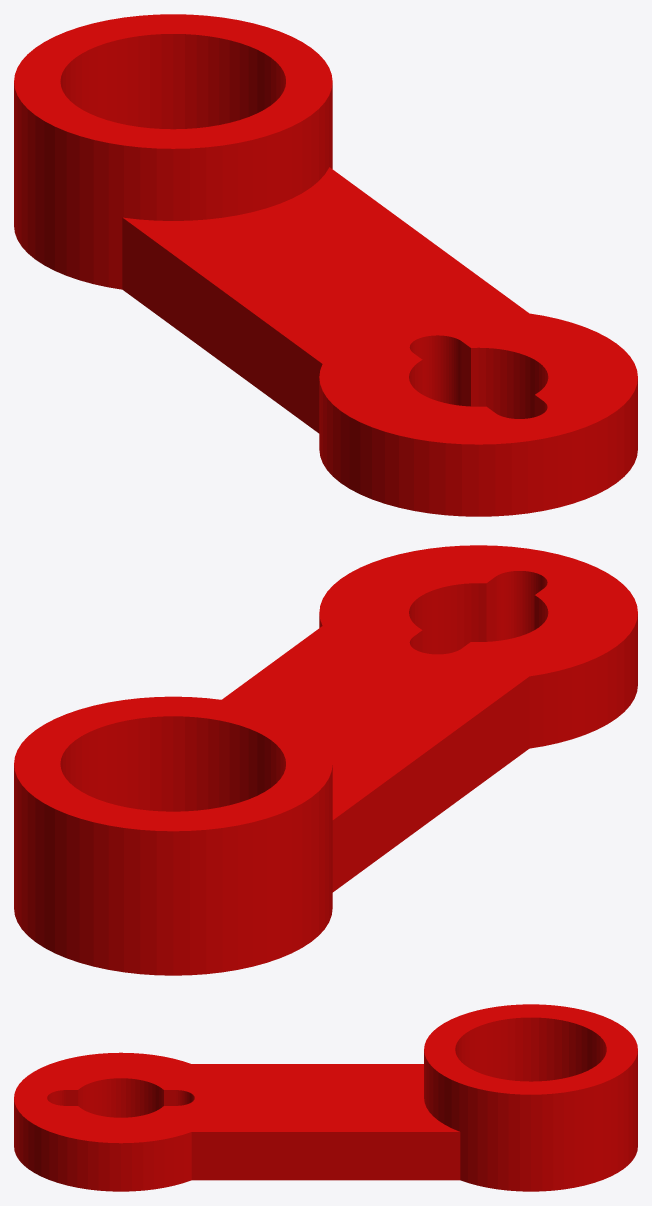
File: inks_1_PCBWay Community.005.dae
3 renders of one model, top to bottom at view 1: azimuth 30°, elevation 25°; view 2: azimuth 150°, elevation 25°; view 3: azimuth 270°, elevation 25°, orthographic. The views are drawn at different scales.
Visible parts, largest first — view 1: tmp_export_inks_1_PCBWay Community.005; view 2: tmp_export_inks_1_PCBWay Community.005; view 3: tmp_export_inks_1_PCBWay Community.005.
Part boxes in pixels (box(x1,y1,x2,y2)): tmp_export_inks_1_PCBWay Community.005: box(14, 14, 637, 516); tmp_export_inks_1_PCBWay Community.005: box(14, 545, 637, 975); tmp_export_inks_1_PCBWay Community.005: box(14, 1004, 637, 1191).
Bounding box in the file's own units: 0.012 × 0.035 × 0.006.
